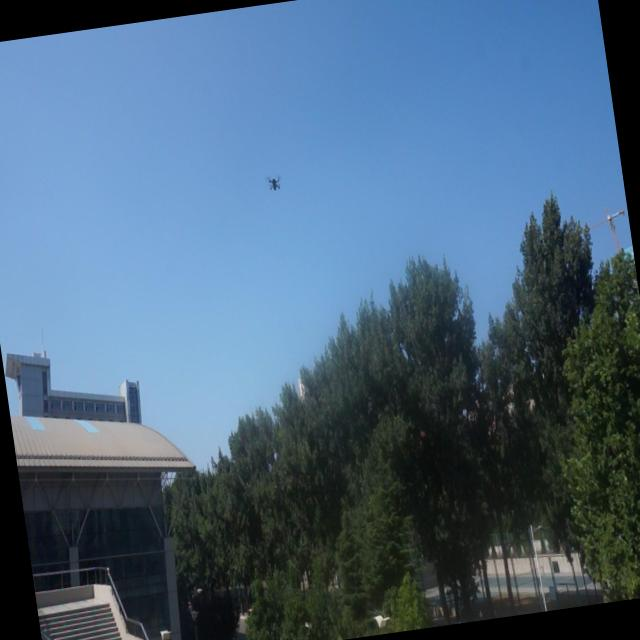drone: (264, 168, 286, 200)
